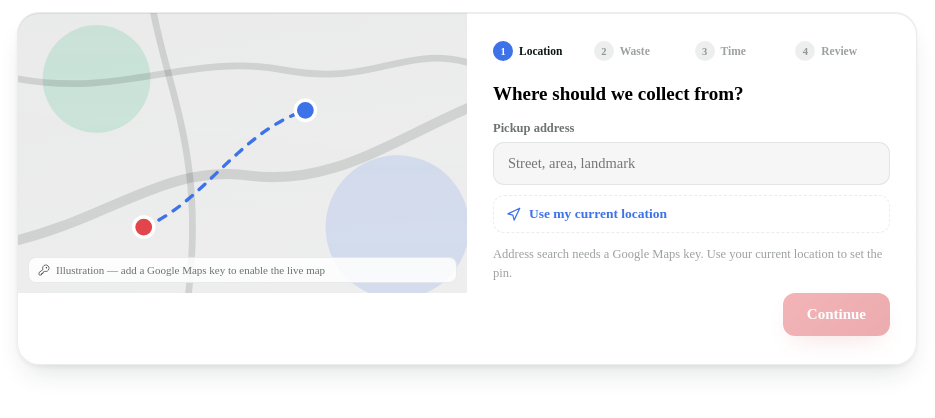
BookingFlow › does not show success until the backend confirms
This screenshot has width=935, height=418.
Type "12 Test Street, Accra" into the field labelled "Pickup address" at point(692, 164), box left=493, top=142, right=890, bottom=185
Click the button "Use my current location" at point(598, 214), box left=493, top=195, right=890, bottom=233
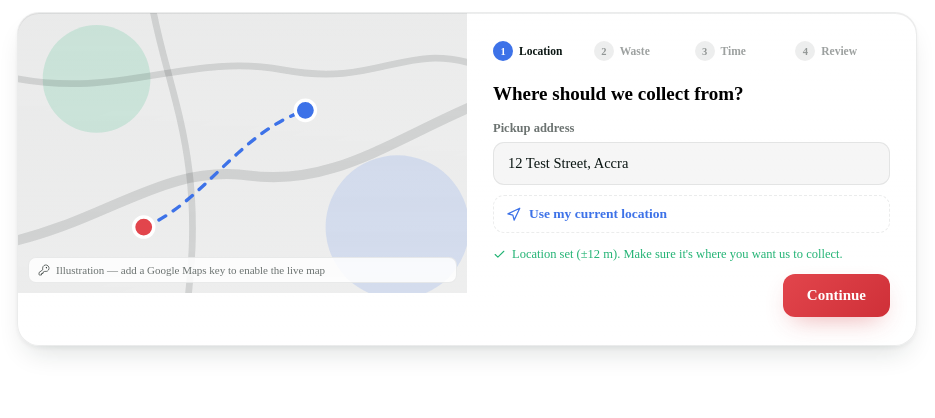
Expected: the text "Location set (±12 m). Make sure it's where you want us to collect." is shown, left=493, top=245, right=890, bottom=264
Click the button "Continue" at point(836, 295), box left=783, top=274, right=890, bottom=317
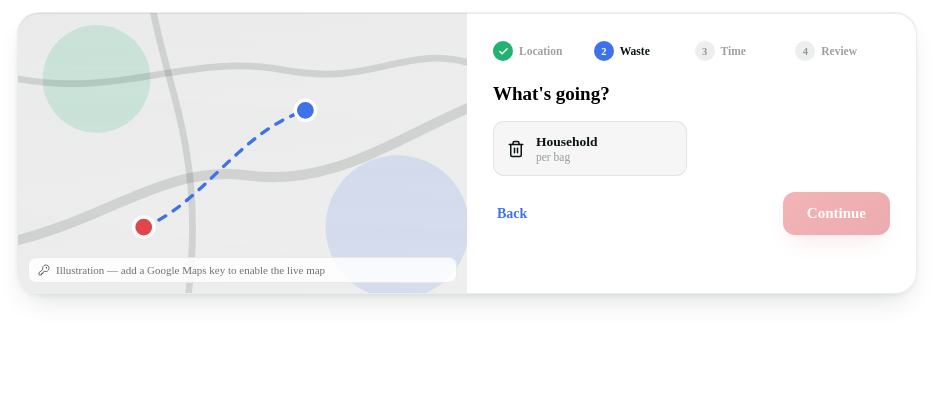
Click the button "Household per bag" at point(590, 148), box left=493, top=121, right=686, bottom=176
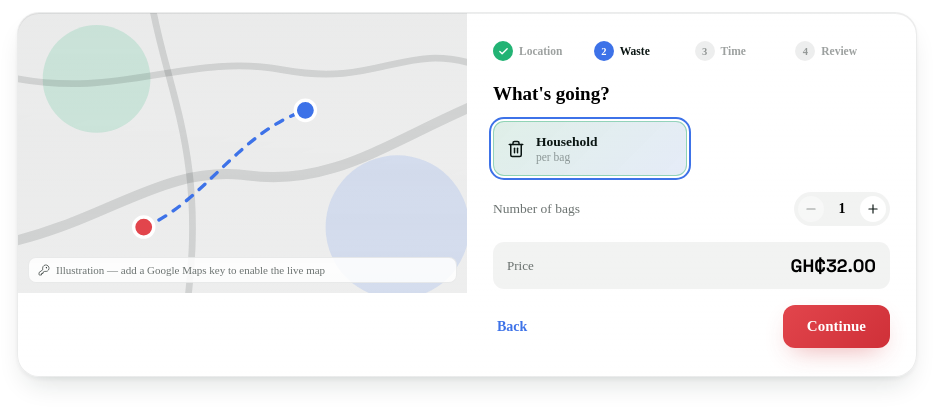
Expected: the text "GH₵32.00" is shown, left=791, top=254, right=876, bottom=277
Click the button "Continue" at point(836, 326), box left=783, top=305, right=890, bottom=348
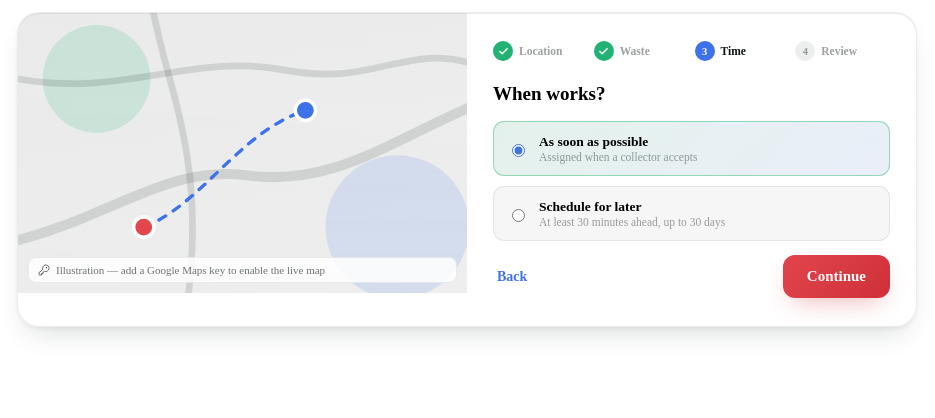
Click the button "Continue" at point(836, 276), box left=783, top=255, right=890, bottom=298
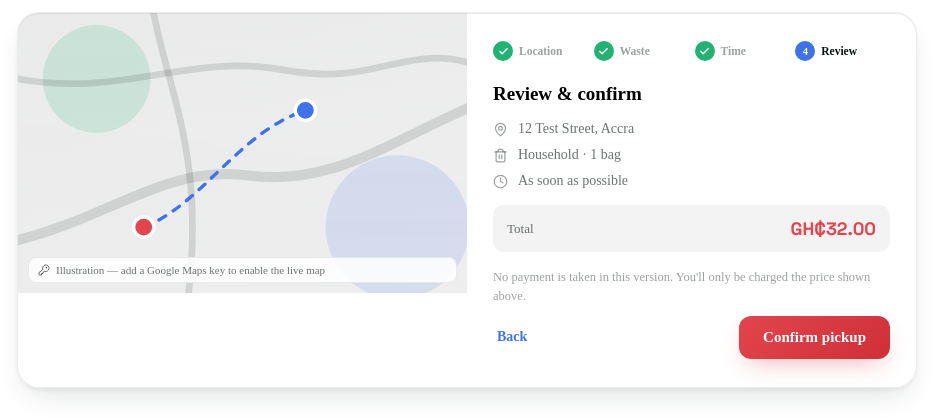
Click the button "Confirm pickup" at point(815, 337), box left=739, top=316, right=890, bottom=358
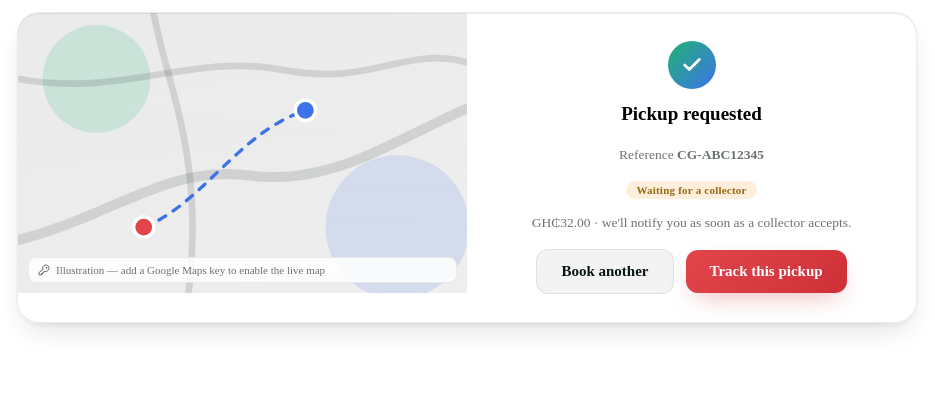
Expected: the text "CG-ABC12345" is shown, left=677, top=147, right=764, bottom=162
Expected: the heading "Pickup requested" is shown, left=621, top=103, right=762, bottom=125
